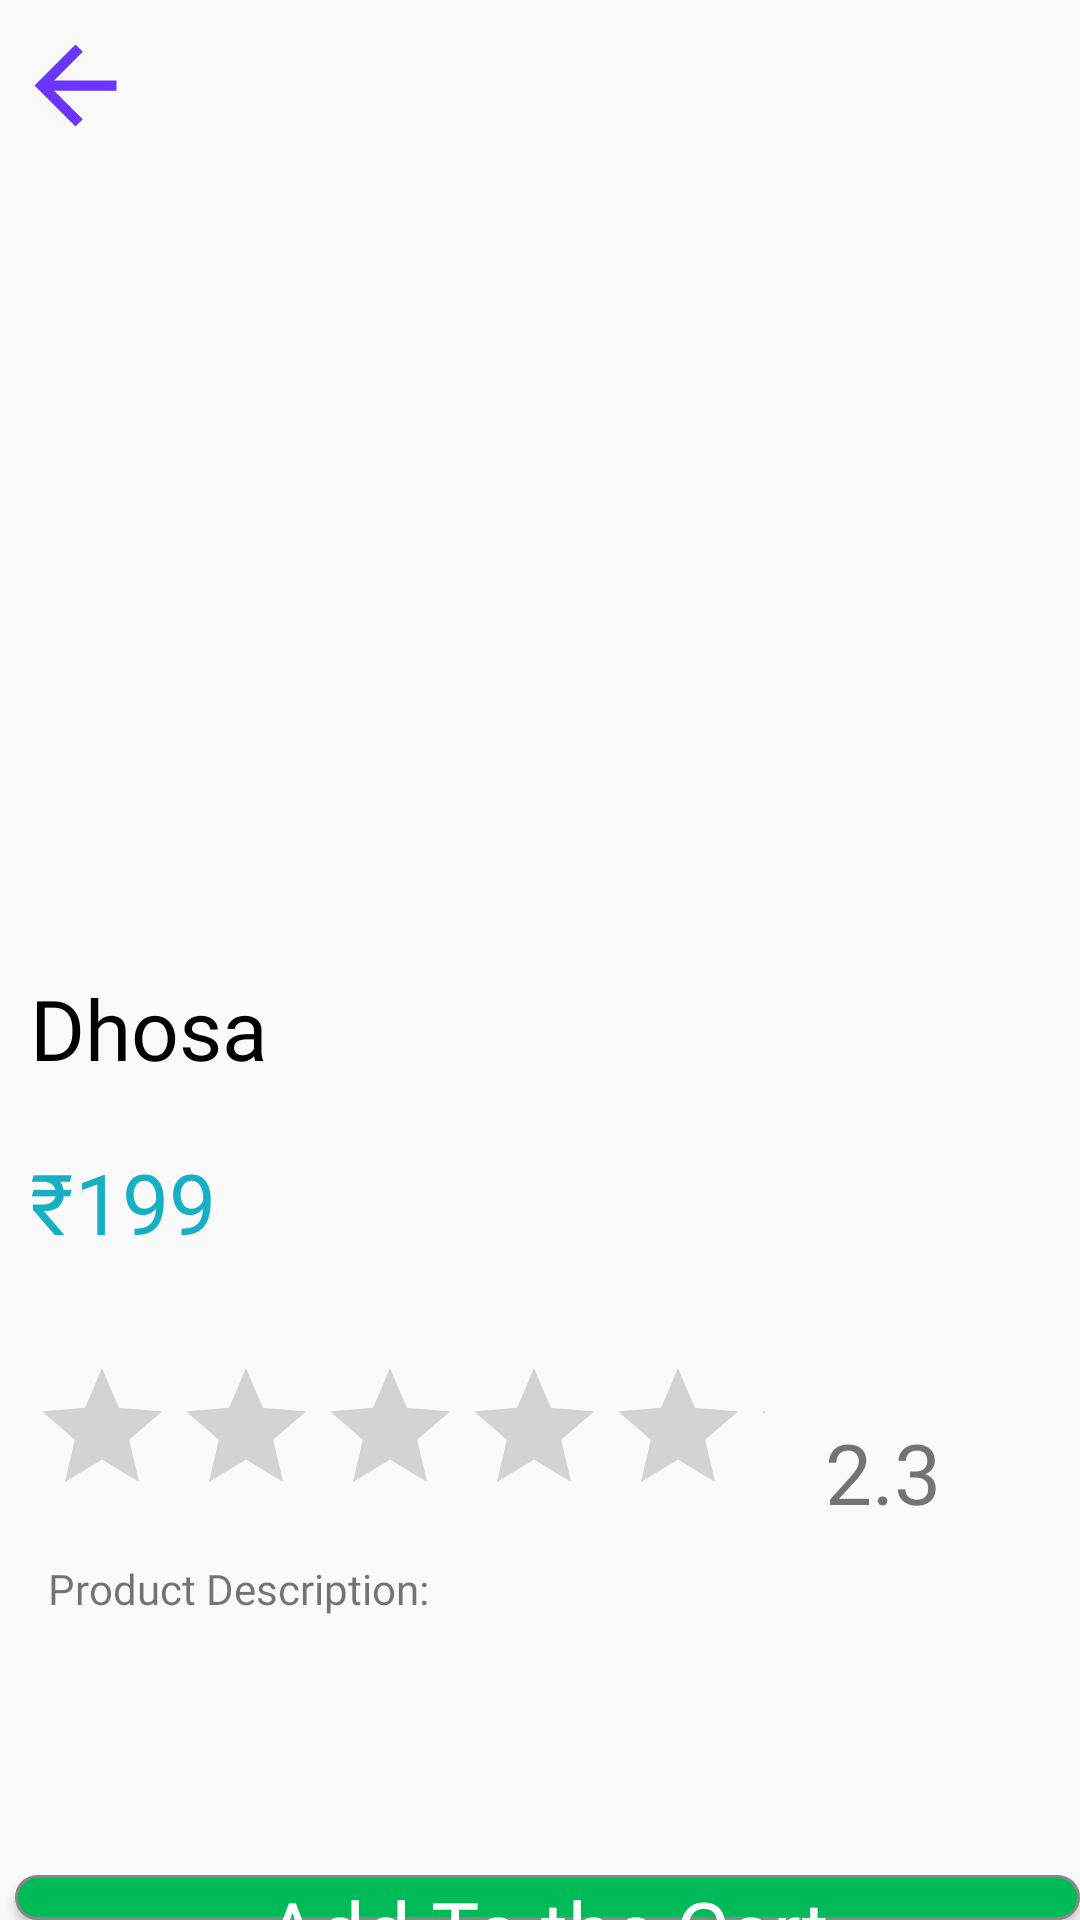

Point at icon controls on the screen. Image size 1080 × 1920, points as (x=x, y=y).
arrow back: (x=75, y=85)
